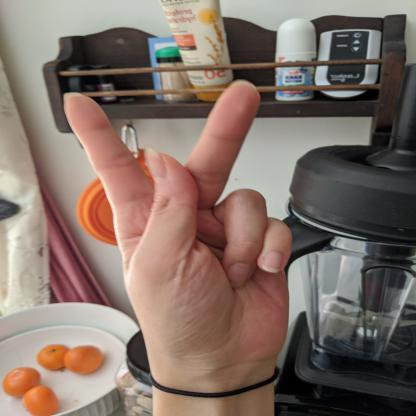K: (55, 76, 300, 371)
